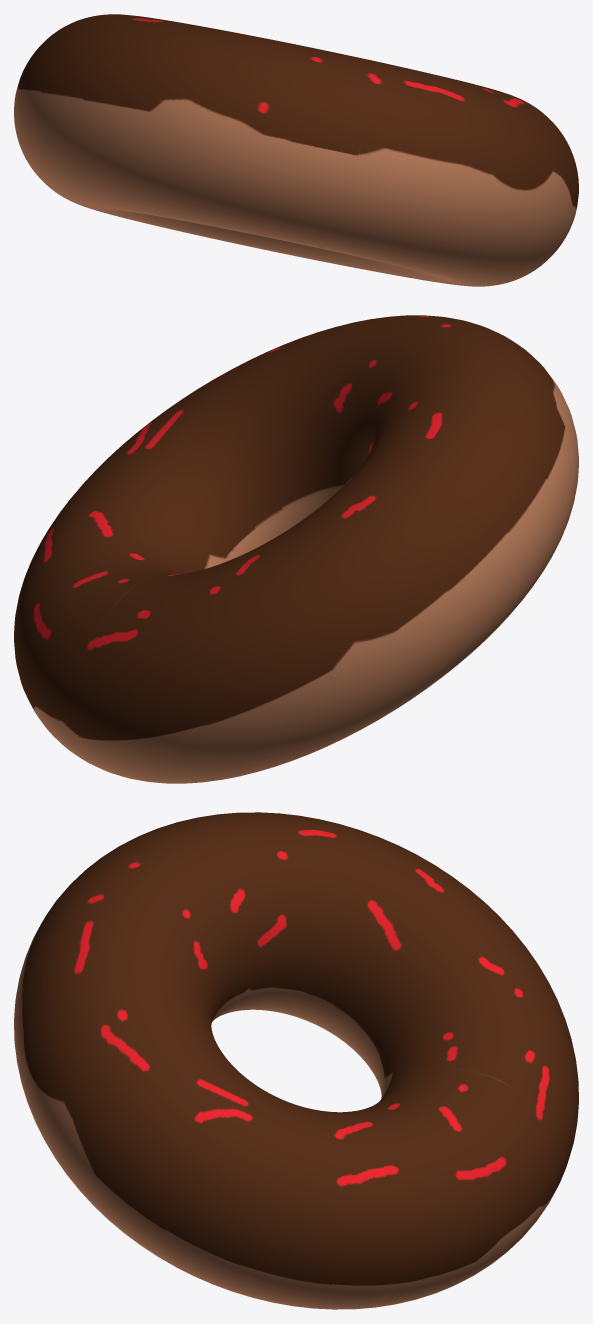
The model's file is Donut.glb.
The picture shows the model from 3 angles, top to bottom: view 1: azimuth 30°, elevation 25°; view 2: azimuth 150°, elevation 25°; view 3: azimuth 270°, elevation 25°; orthographic projection. The views are drawn at different scales.
Parts seen in each view (by area): view 1: mesh_id27; view 2: mesh_id27; view 3: mesh_id27.
Part boxes in pixels (<box>): mesh_id27: <box>14,14,578,286</box>; mesh_id27: <box>14,315,578,783</box>; mesh_id27: <box>14,812,578,1309</box>.
Bounding box in the file's own units: 0.3014 × 0.211 × 0.3101.
1 material, 1 textured.
